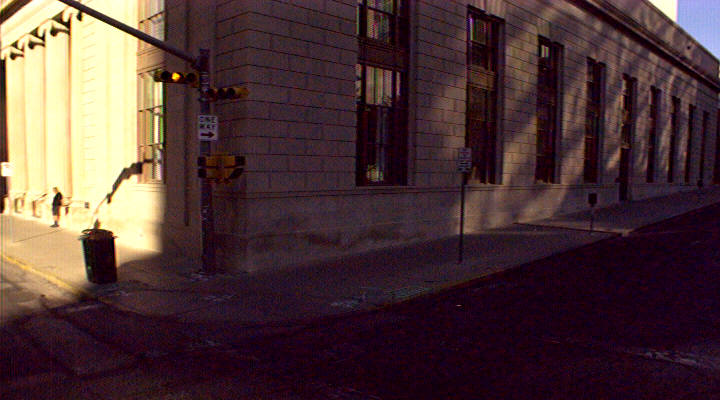Ramp: (105, 268, 408, 331)
